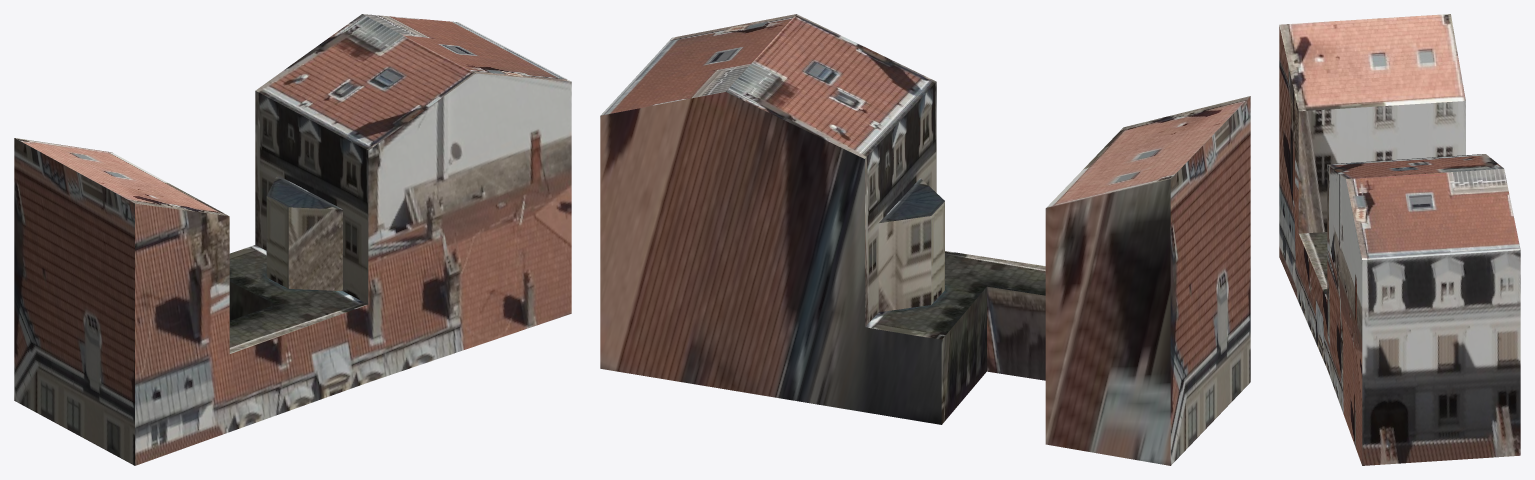
3 renders of one model, left to right at view 1: azimuth 30°, elevation 25°; view 2: azimuth 150°, elevation 25°; view 3: azimuth 270°, elevation 25°, orthographic. The views are drawn at different scales.
Parts seen in each view (by area): view 1: Z_UP; view 2: Z_UP; view 3: Z_UP.
Boxes of the visible parts, <box> form: Z_UP: <box>14,14,571,465</box>; Z_UP: <box>600,14,1250,465</box>; Z_UP: <box>1279,14,1520,465</box>.
Bounding box in the file's own units: 33.67 × 17.31 × 15.68.
Materials: 2 (1 with a texture image).
